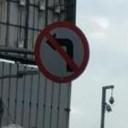NoVirarEsquerda: (34, 19, 92, 86)
